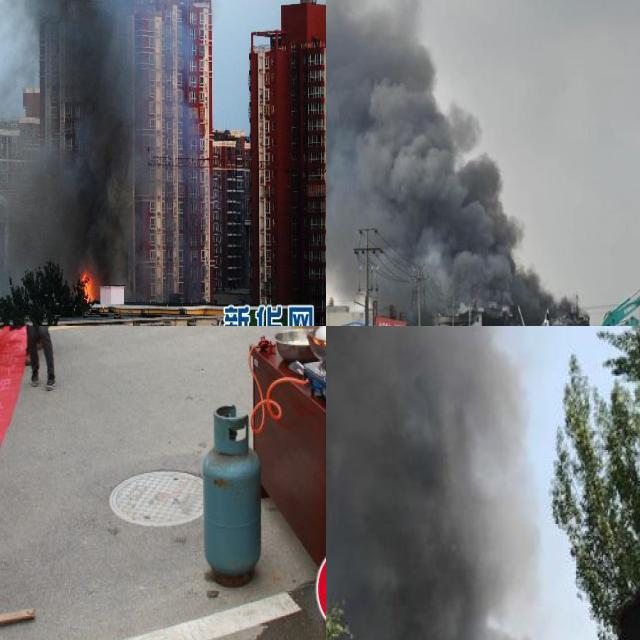fire: (77, 267, 99, 303)
smoke: (326, 0, 580, 323), (326, 326, 539, 640), (0, 0, 213, 294)
